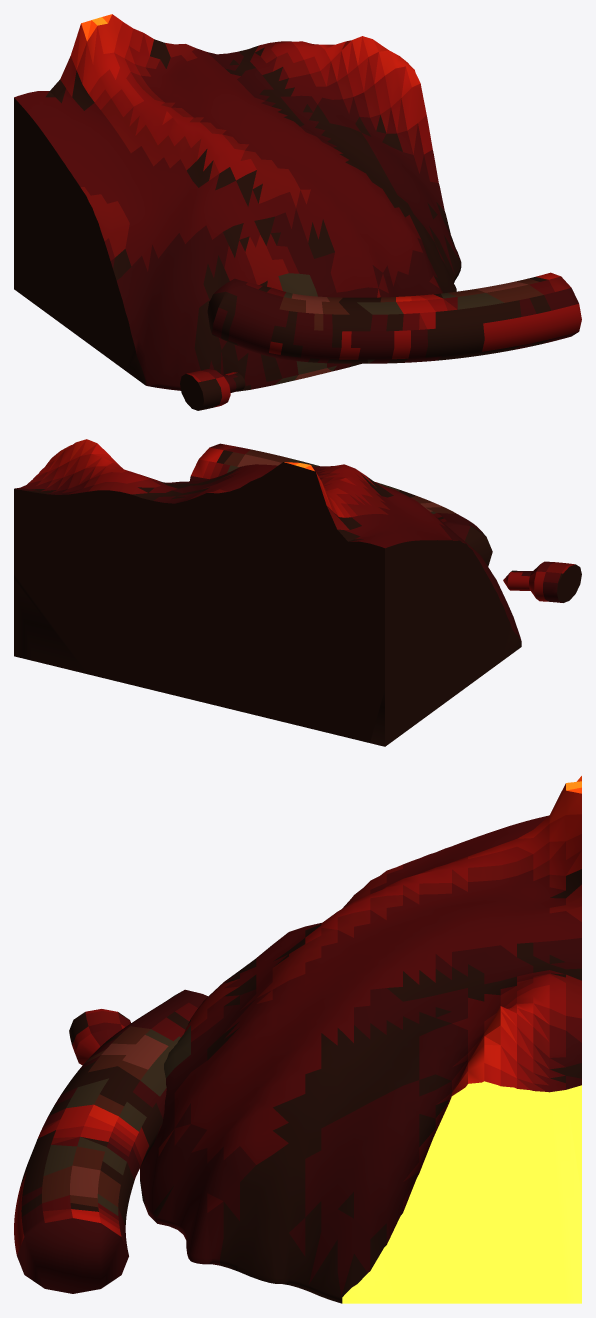
File: lava_grub_r_b3.glb
3 renders of one model, top to bottom at view 1: azimuth 30°, elevation 25°; view 2: azimuth 150°, elevation 25°; view 3: azimuth 270°, elevation 25°, orthographic. The views are drawn at different scales.
Visible parts, largest first — view 1: lava_grub_r_b3_grub_body, lava_grub_r_b3_grub_claw_front, lava_grub_r_b3_grub_claw_mid; view 2: lava_grub_r_b3_grub_body, lava_grub_r_b3_grub_claw_front, lava_grub_r_b3_grub_claw_mid; view 3: lava_grub_r_b3_grub_body, lava_grub_r_b3_grub_claw_front, lava_grub_r_b3_grub_claw_mid.
Part boxes in pixels (<box>): lava_grub_r_b3_grub_body: <box>14,14,461,391</box>; lava_grub_r_b3_grub_claw_front: <box>207,272,581,363</box>; lava_grub_r_b3_grub_claw_mid: <box>180,369,245,410</box>; lava_grub_r_b3_grub_body: <box>14,439,521,746</box>; lava_grub_r_b3_grub_claw_front: <box>190,443,492,566</box>; lava_grub_r_b3_grub_claw_mid: <box>503,561,581,602</box>; lava_grub_r_b3_grub_body: <box>140,776,581,1303</box>; lava_grub_r_b3_grub_claw_front: <box>14,989,207,1293</box>; lava_grub_r_b3_grub_claw_mid: <box>69,1009,130,1065</box>.
Bounding box in the file's own units: 23.98 × 16.06 × 24.4.
